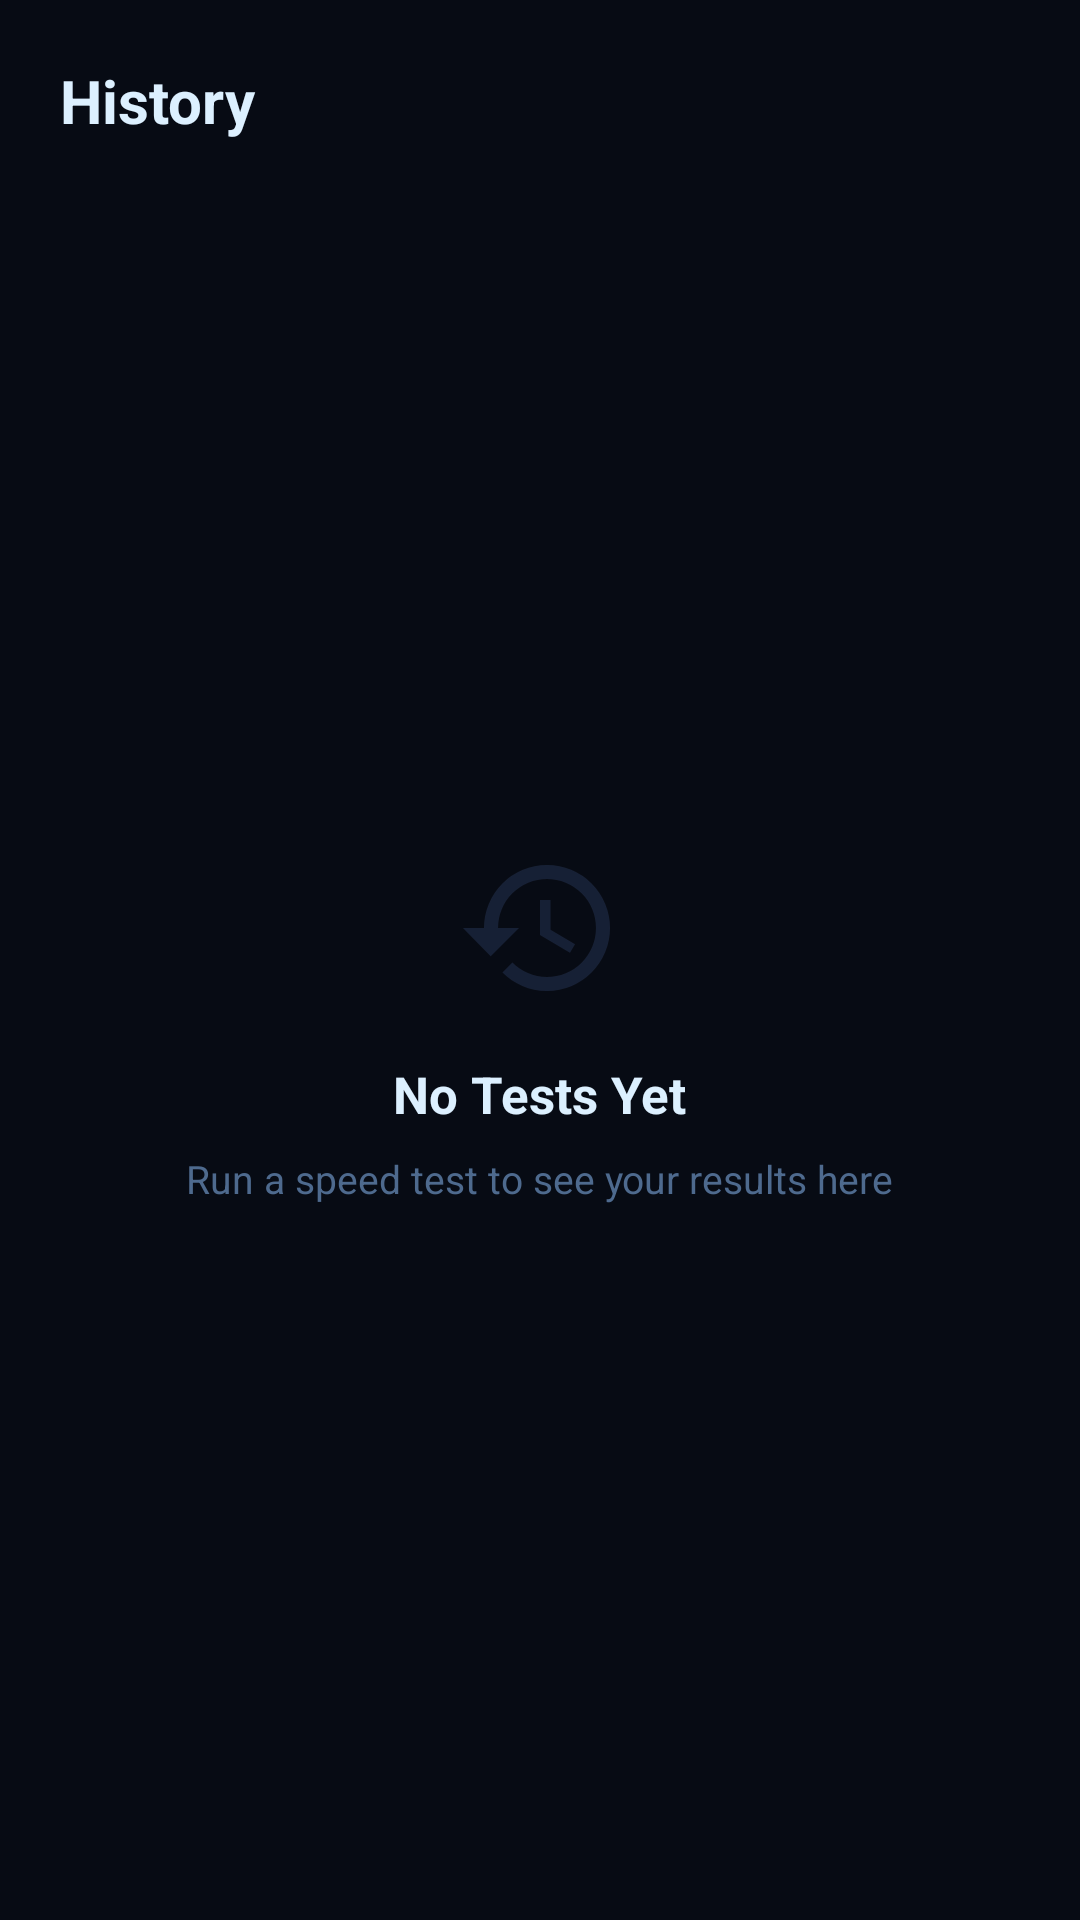

Where to tap for icons on this 1080x1920 app screen, as [x,y]:
history: [537,928]
